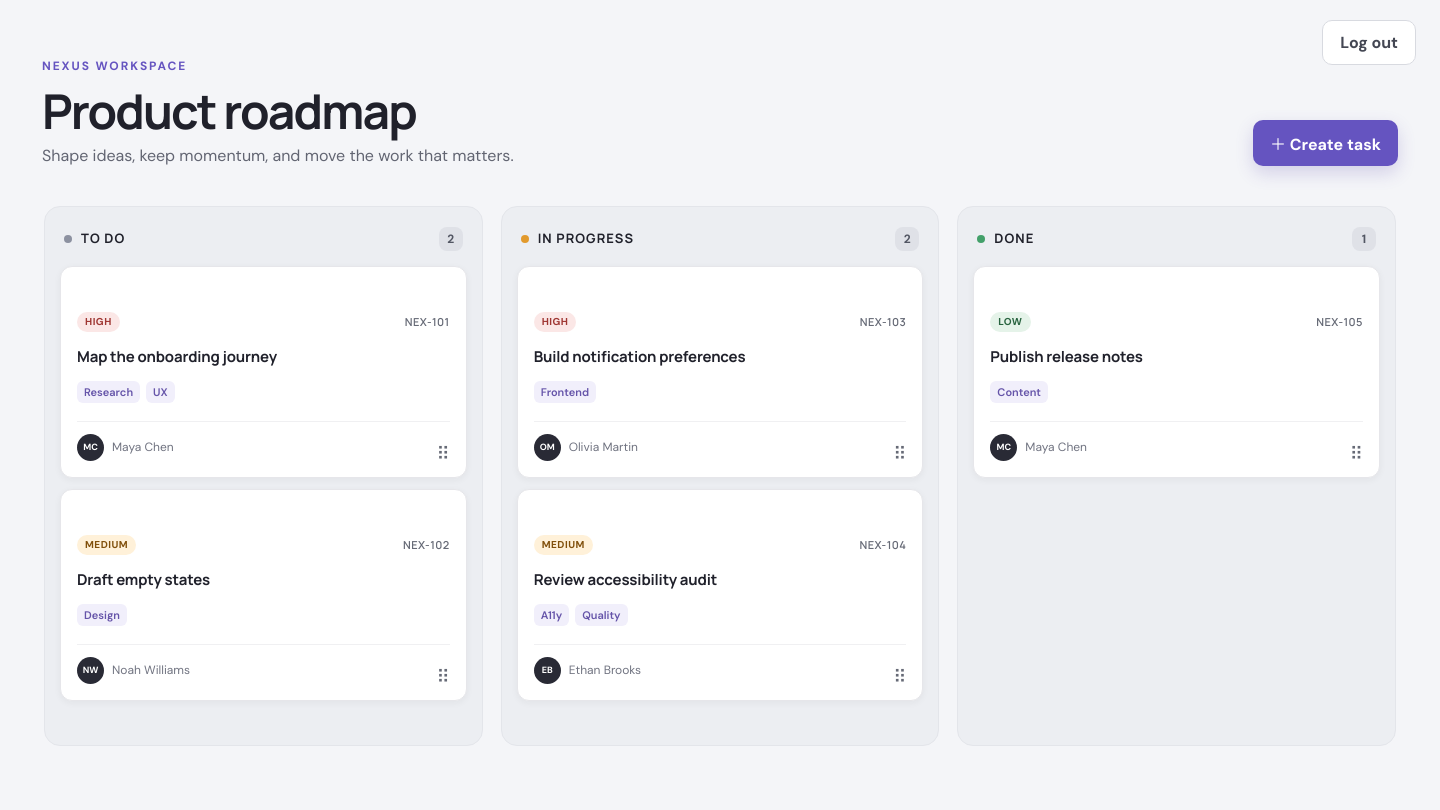
Scenario: task click navigates to its route
Click the button named "Open NEX-101:" at (263, 372), box [61,267,466,477]
(page scrolled)
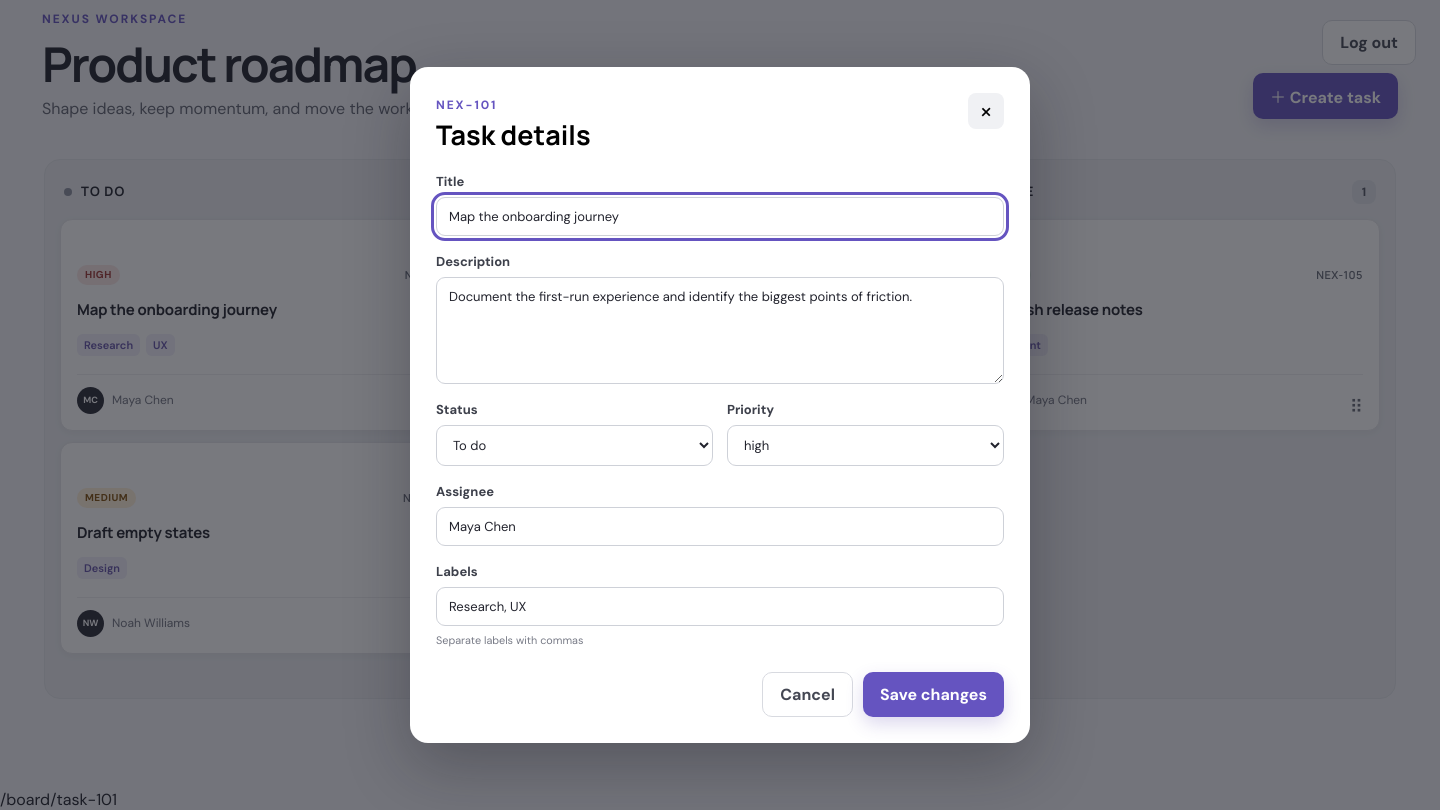
Result: the dialog "Task details" is shown at [410,67,1030,743]
Result: the text with test id "current-path" reads "/board/task-101" at [0,789,117,809]
